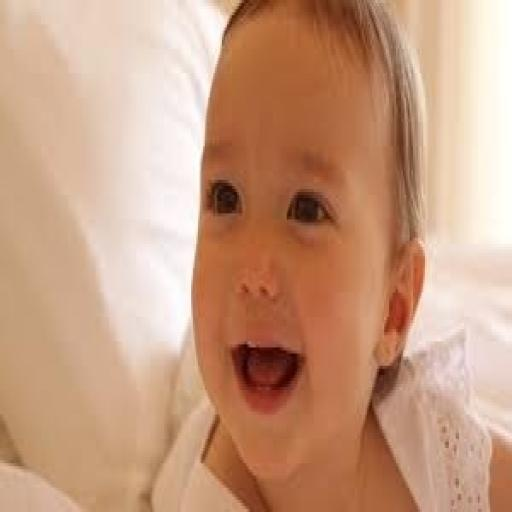laughing: (179, 3, 434, 479)
